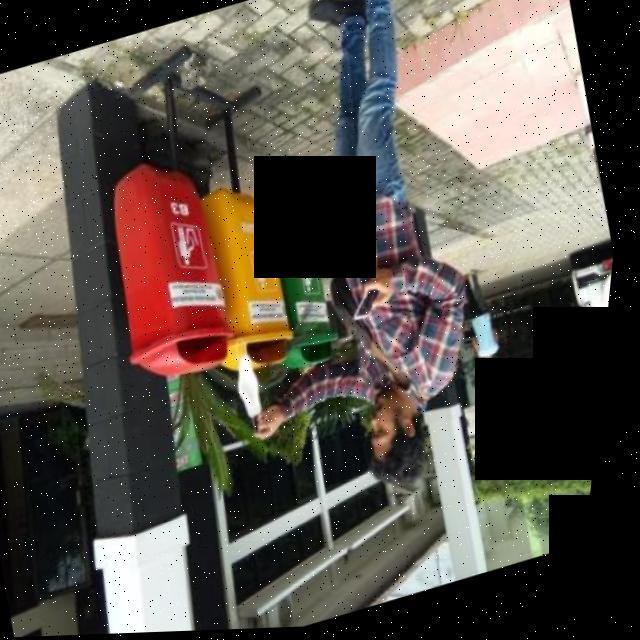bin: (69, 150, 262, 398), (246, 176, 363, 378)
